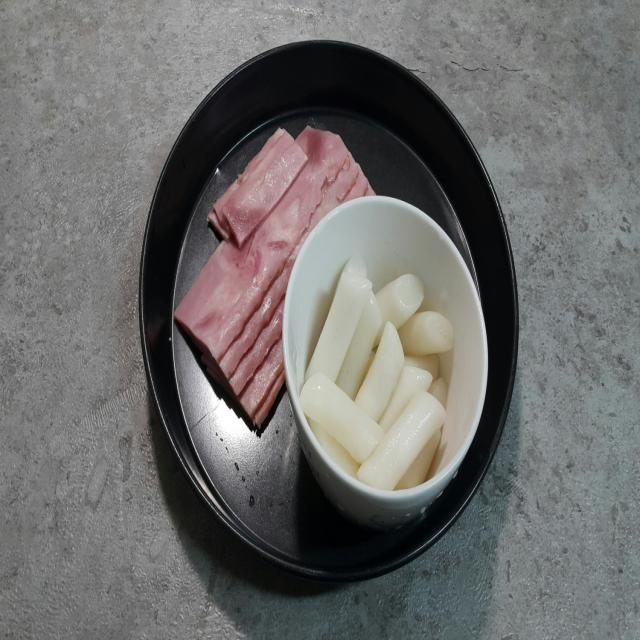bacon: (174, 125, 375, 427)
